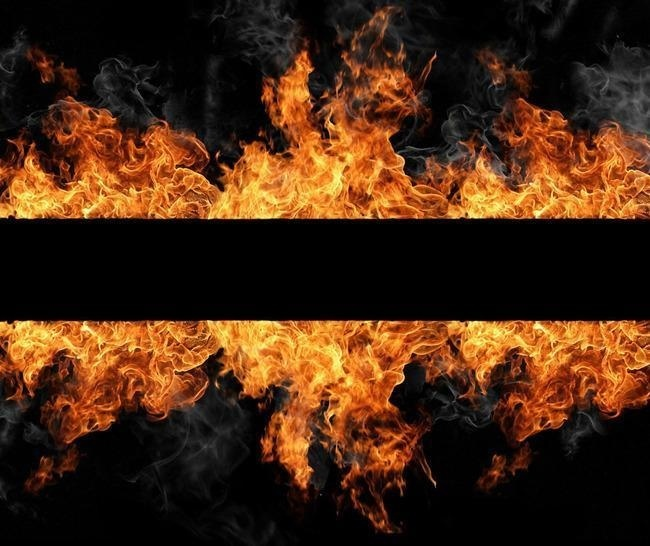fire: (12, 9, 620, 225), (190, 315, 620, 518)
